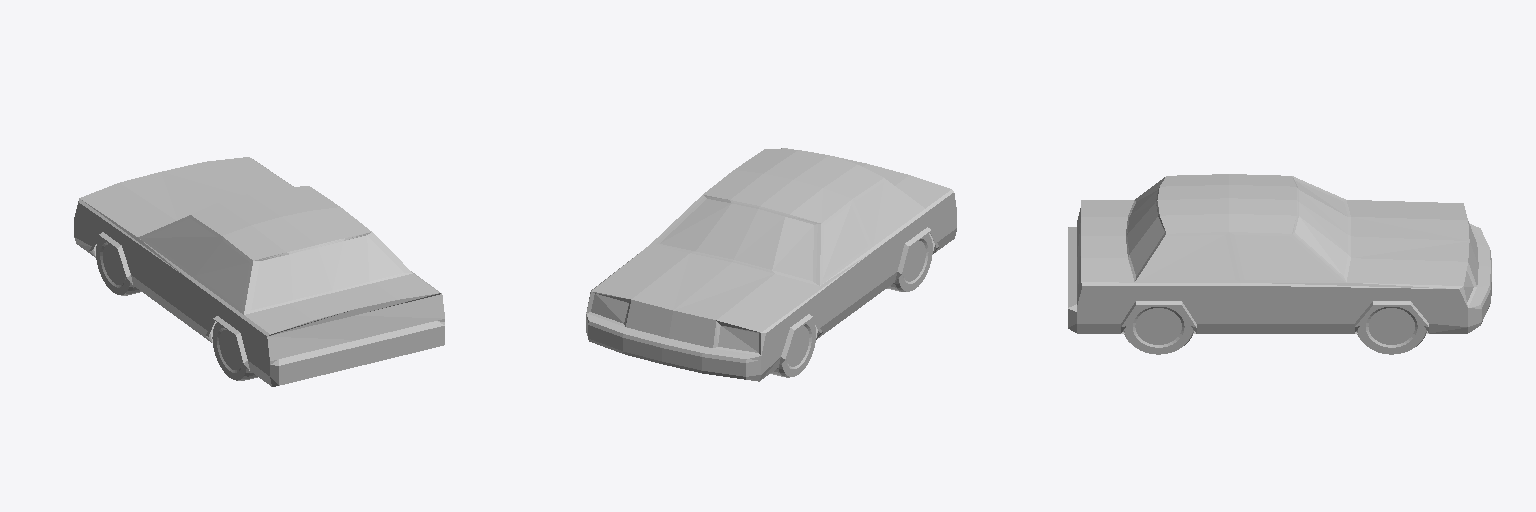
The model's file is car.obj.
The picture shows the model from 3 angles: view 1: azimuth 30°, elevation 25°; view 2: azimuth 150°, elevation 25°; view 3: azimuth 270°, elevation 25°; orthographic projection.
Parts seen in each view (by area): view 1: Car_Cube; view 2: Car_Cube; view 3: Car_Cube.
Boxes of the visible parts, x1=… form: Car_Cube: x1=74, y1=157, x2=444, y2=386; Car_Cube: x1=586, y1=148, x2=956, y2=381; Car_Cube: x1=1068, y1=174, x2=1491, y2=354.
Size of the model in its own units: 5 by 3 by 10.